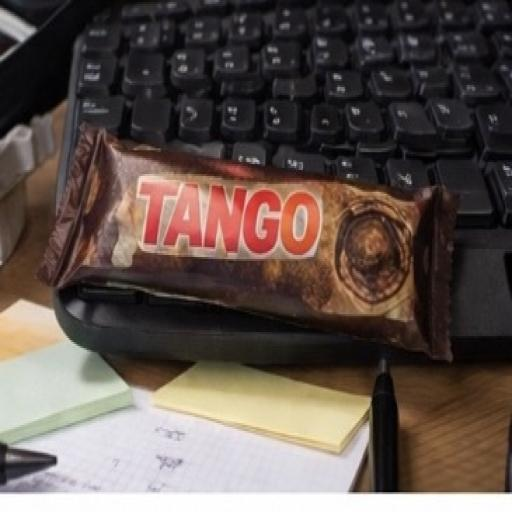tango: (29, 61, 463, 414)
